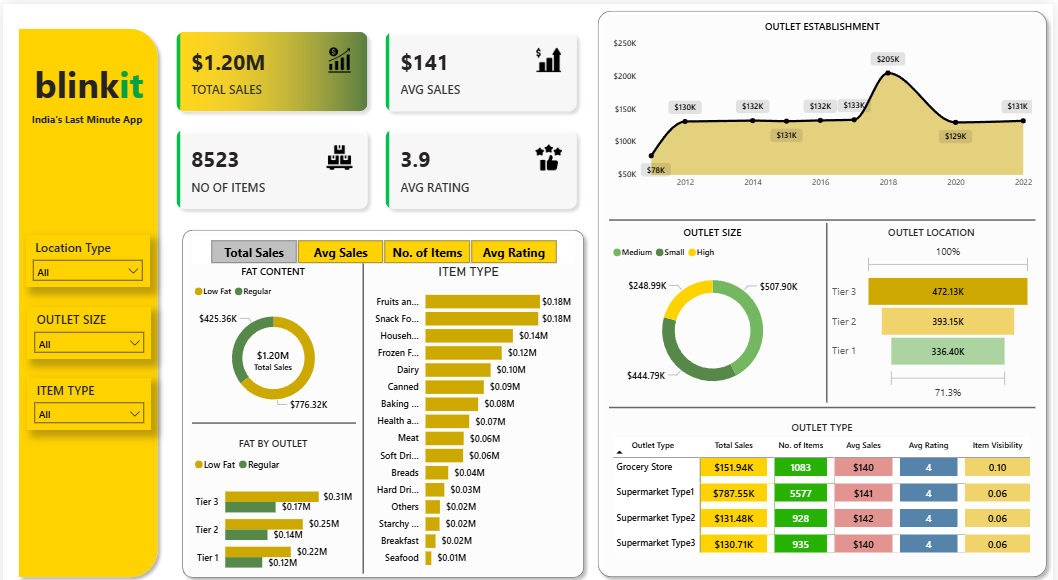

The page's visual inventory and layout, read from the dashboard file:
{"tool":"powerbi","page":{"name":"Page 1","canvas":[1400,800],"ordinal":0},"visuals":[{"type":"shape","box":[12.1,24.1,203.3,749.4],"z":0},{"type":"textbox","box":[31,68.9,165.4,86.1],"z":1000},{"type":"textbox","box":[31,137.8,160.2,32.7],"z":2000},{"type":"cardVisual","fields":{"Data":["BlinkIT Grocery Data.Total Sales","BlinkIT Grocery Data.Avg Sales","BlinkIT Grocery Data.No. of Items","BlinkIT Grocery Data.Avg Rating"]},"box":[214.9,19.9,569.3,270.3],"z":3000},{"type":"shape","box":[230.2,291,553.8,482.1],"z":4000},{"type":"donutChart","title":"FAT CONTENT","fields":{"Y":["BlinkIT Grocery Data.Total Sales"],"Category":["BlinkIT Grocery Data.Item Fat Content"]},"box":[249.8,346.3,220.5,206.7],"z":5000},{"type":"slicer","fields":{"Values":["Metrics.Metrics"]},"box":[251.5,308.4,509.9,37.9],"z":6000},{"type":"cardVisual","fields":{"Data":["BlinkIT Grocery Data.Total Sales"]},"box":[306.6,427.2,108.5,93],"z":7000},{"type":"clusteredBarChart","title":"FAT BY OUTLET","fields":{"Y":["BlinkIT Grocery Data.Total Sales"],"Category":["BlinkIT Grocery Data.Outlet Location Type"],"Series":["BlinkIT Grocery Data.Item Fat Content"]},"box":[249.8,575.4,220.5,196.4],"z":8000},{"type":"shape","box":[251.5,520.3,218.8,77.5],"z":9000},{"type":"shape","box":[470.3,346.3,20.7,413.5],"z":10000},{"type":"barChart","title":"ITEM TYPE","fields":{"Y":["BlinkIT Grocery Data.Total Sales"],"Category":["BlinkIT Grocery Data.Item Type"]},"box":[480,346,282,416],"z":11000},{"type":"shape","box":[784,0,616.8,773.1],"z":12000},{"type":"lineChart","title":"OUTLET ESTABLISHMENT","fields":{"Category":["BlinkIT Grocery Data.Outlet Establishment Year"],"Y":["BlinkIT Grocery Data.Total Sales"]},"box":[807.9,19.5,569,234.5],"z":13000},{"type":"shape","box":[808,282.5,568.5,12.1],"z":14000},{"type":"donutChart","title":"OUTLET SIZE","fields":{"Y":["BlinkIT Grocery Data.Total Sales"],"Category":["BlinkIT Grocery Data.Outlet Size"]},"box":[808,294.6,275.6,237.7],"z":15000},{"type":"shape","box":[1081.9,292.9,32.7,239.5],"z":16000},{"type":"funnel","title":"OUTLET LOCATION","fields":{"Category":["BlinkIT Grocery Data.Outlet Location Type"],"Y":["Sum(BlinkIT Grocery Data.Sales)"]},"box":[1100.8,294.6,275.6,239.5],"z":17000},{"type":"shape","box":[808,532.3,568.5,12.1],"z":18000},{"type":"pivotTable","title":"OUTLET TYPE","fields":{"Rows":["BlinkIT Grocery Data.Outlet Type"],"Values":["BlinkIT Grocery Data.Total Sales","BlinkIT Grocery Data.No. of Items","BlinkIT Grocery Data.Avg Sales","BlinkIT Grocery Data.Avg Rating","Avg(BlinkIT Grocery Data.Item Visibility)"]},"box":[808,554,568,206],"z":19000},{"type":"slicer","fields":{"Values":["BlinkIT Grocery Data.Outlet Location Type"]},"box":[30,308,166,70],"z":20000},{"type":"slicer","fields":{"Values":["BlinkIT Grocery Data.Item Type"]},"box":[32,498,166,70],"z":22000},{"type":"slicer","fields":{"Values":["BlinkIT Grocery Data.Outlet Size"]},"box":[32,404,166,70],"z":22001}]}

Visuals, with their boxes on the page's 1400x800 design canvas (x1, y1, x2, y2). These are canvas units, not pixel positions in the 1058x580 screenshot, which may show the page scaled, cropped or inside an application window:
shape: <bbox>12, 24, 215, 774</bbox>
textbox: <bbox>31, 69, 196, 155</bbox>
textbox: <bbox>31, 138, 191, 170</bbox>
cardVisual - BlinkIT Grocery Data.Total Sales x BlinkIT Grocery Data.Avg Sales: <bbox>215, 20, 784, 290</bbox>
shape: <bbox>230, 291, 784, 773</bbox>
"FAT CONTENT" donutChart: <bbox>250, 346, 470, 553</bbox>
slicer - Metrics.Metrics: <bbox>252, 308, 761, 346</bbox>
cardVisual - BlinkIT Grocery Data.Total Sales: <bbox>307, 427, 415, 520</bbox>
"FAT BY OUTLET" clusteredBarChart: <bbox>250, 575, 470, 772</bbox>
shape: <bbox>252, 520, 470, 598</bbox>
shape: <bbox>470, 346, 491, 760</bbox>
"ITEM TYPE" barChart: <bbox>480, 346, 762, 762</bbox>
shape: <bbox>784, 0, 1401, 773</bbox>
"OUTLET ESTABLISHMENT" lineChart: <bbox>808, 20, 1377, 254</bbox>
shape: <bbox>808, 282, 1376, 295</bbox>
"OUTLET SIZE" donutChart: <bbox>808, 295, 1084, 532</bbox>
shape: <bbox>1082, 293, 1115, 532</bbox>
"OUTLET LOCATION" funnel: <bbox>1101, 295, 1376, 534</bbox>
shape: <bbox>808, 532, 1376, 544</bbox>
"OUTLET TYPE" pivotTable: <bbox>808, 554, 1376, 760</bbox>
slicer - BlinkIT Grocery Data.Outlet Location Type: <bbox>30, 308, 196, 378</bbox>
slicer - BlinkIT Grocery Data.Item Type: <bbox>32, 498, 198, 568</bbox>
slicer - BlinkIT Grocery Data.Outlet Size: <bbox>32, 404, 198, 474</bbox>
